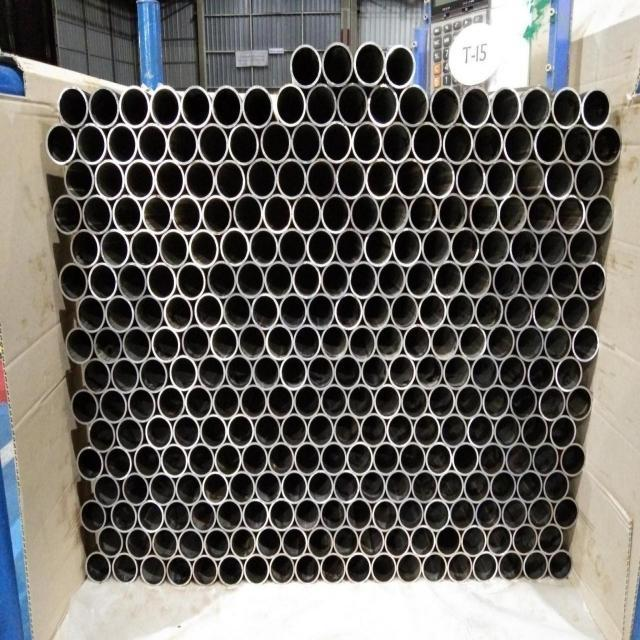pipe: (354, 40, 386, 87), (322, 41, 354, 88), (290, 43, 322, 88), (305, 82, 337, 127), (337, 81, 368, 127), (242, 85, 275, 128), (57, 85, 90, 128), (385, 44, 416, 89), (89, 84, 120, 129), (274, 83, 306, 126), (429, 85, 461, 128), (119, 85, 151, 128), (260, 121, 292, 164), (228, 122, 260, 165), (398, 83, 429, 127), (150, 85, 181, 129), (212, 85, 243, 129), (138, 122, 169, 166), (368, 82, 398, 127), (181, 85, 212, 128), (490, 86, 521, 129), (521, 86, 552, 129), (321, 120, 352, 163), (381, 120, 412, 163), (291, 120, 322, 163), (443, 122, 474, 165), (77, 122, 108, 165), (503, 122, 534, 165), (107, 122, 138, 165), (168, 122, 199, 165), (534, 122, 565, 165), (46, 122, 77, 165), (306, 157, 337, 200), (125, 158, 156, 201), (64, 158, 95, 201), (461, 85, 491, 129), (198, 122, 228, 166), (214, 159, 246, 200), (336, 158, 367, 200), (247, 158, 278, 200), (95, 159, 126, 201), (155, 159, 186, 201), (552, 86, 582, 129), (352, 120, 382, 163), (473, 122, 503, 165), (563, 123, 593, 166), (277, 157, 307, 200), (185, 159, 215, 202), (468, 194, 499, 235), (112, 194, 143, 235), (202, 194, 233, 235), (581, 87, 611, 129), (412, 122, 442, 164), (593, 124, 623, 166), (425, 157, 455, 199), (366, 158, 396, 200), (395, 158, 425, 200), (456, 159, 486, 201), (485, 159, 515, 201), (574, 159, 604, 201), (437, 193, 468, 233), (100, 228, 131, 268), (189, 228, 220, 268), (515, 159, 545, 200), (379, 193, 409, 234), (408, 193, 438, 234), (321, 193, 351, 234), (350, 193, 380, 234), (262, 193, 292, 234), (526, 194, 556, 235), (82, 194, 112, 235), (142, 194, 172, 235), (53, 194, 83, 235), (172, 194, 202, 235), (545, 159, 574, 201), (233, 194, 263, 234), (292, 194, 322, 234), (450, 227, 480, 267), (364, 227, 394, 267), (422, 227, 452, 267), (335, 227, 365, 267), (392, 227, 422, 267), (278, 227, 308, 267), (480, 228, 510, 268), (509, 228, 539, 268), (70, 228, 100, 268), (538, 228, 568, 268), (130, 228, 160, 268), (159, 229, 189, 269), (59, 261, 89, 301), (498, 194, 527, 235), (557, 194, 586, 235), (220, 228, 250, 267), (462, 260, 492, 299), (207, 260, 237, 299), (492, 261, 522, 300), (177, 262, 207, 301), (88, 262, 118, 301), (117, 262, 147, 301), (147, 262, 177, 301), (105, 294, 135, 333), (307, 227, 336, 267), (249, 227, 278, 267), (568, 228, 597, 268), (194, 293, 224, 331), (164, 294, 194, 332), (135, 295, 165, 333), (181, 324, 211, 362), (377, 260, 406, 299), (349, 260, 378, 299), (406, 260, 435, 299), (434, 260, 463, 299), (236, 260, 265, 299), (321, 260, 350, 299), (265, 260, 294, 299), (521, 261, 550, 300), (550, 261, 579, 300), (77, 294, 106, 333), (586, 194, 614, 234), (504, 294, 534, 331), (152, 326, 182, 363), (122, 326, 152, 363), (169, 355, 199, 392), (139, 356, 169, 393), (293, 261, 322, 299), (446, 292, 475, 330), (475, 292, 504, 330), (223, 292, 252, 330), (279, 293, 308, 331), (251, 293, 280, 331), (533, 294, 562, 332), (516, 324, 545, 362), (94, 326, 123, 364), (578, 261, 606, 300), (66, 326, 94, 365), (127, 387, 157, 423), (487, 324, 516, 361), (210, 324, 239, 361), (293, 324, 322, 361), (498, 354, 527, 391), (527, 355, 556, 392), (83, 357, 112, 394), (111, 357, 140, 394), (99, 387, 128, 424), (71, 388, 100, 425), (307, 292, 335, 330), (418, 292, 446, 330), (335, 293, 363, 331), (363, 293, 391, 331), (391, 293, 419, 331), (561, 293, 589, 331), (431, 323, 459, 361), (459, 323, 487, 361), (544, 324, 572, 362), (157, 385, 186, 421), (376, 323, 404, 360), (403, 323, 431, 360), (321, 324, 349, 361), (238, 324, 266, 361), (266, 324, 294, 361), (348, 324, 376, 361), (572, 325, 600, 362), (388, 353, 416, 390), (415, 353, 443, 390), (307, 354, 335, 391), (443, 354, 471, 391), (280, 354, 308, 391), (225, 354, 253, 391), (253, 354, 281, 391), (471, 354, 499, 391), (198, 354, 226, 391), (555, 355, 583, 392), (428, 383, 456, 420), (240, 383, 268, 420), (213, 383, 241, 420), (185, 384, 213, 421), (510, 384, 538, 421), (116, 417, 145, 452), (413, 412, 441, 448), (440, 412, 468, 448), (254, 412, 282, 448), (227, 413, 255, 449), (521, 413, 549, 449), (241, 441, 269, 477), (334, 354, 362, 390), (361, 354, 389, 390), (320, 384, 348, 420), (374, 384, 402, 420), (267, 384, 295, 420), (293, 384, 321, 420), (455, 384, 483, 420), (538, 385, 566, 421), (565, 385, 593, 421), (401, 383, 428, 420), (104, 446, 133, 480), (467, 413, 495, 448), (200, 414, 228, 449), (173, 414, 201, 449), (549, 415, 577, 450), (146, 415, 174, 450), (88, 418, 116, 453), (188, 443, 216, 478), (133, 443, 161, 478), (161, 443, 189, 478), (77, 446, 105, 481), (148, 471, 176, 506), (122, 471, 150, 506), (175, 471, 203, 506), (307, 412, 334, 448), (334, 412, 361, 448), (360, 412, 387, 448), (387, 412, 414, 448), (348, 383, 375, 419), (483, 384, 510, 420), (93, 473, 122, 506), (79, 499, 108, 532), (281, 413, 308, 448), (494, 413, 521, 448), (294, 441, 321, 476), (321, 441, 348, 476), (347, 441, 374, 476), (373, 441, 400, 476), (399, 441, 426, 476), (268, 441, 295, 476), (426, 442, 453, 477), (452, 442, 479, 477), (479, 442, 506, 477), (506, 442, 533, 477), (215, 442, 242, 477), (360, 469, 387, 504), (385, 469, 412, 504), (412, 469, 439, 504), (307, 469, 334, 504), (333, 469, 360, 504), (438, 469, 465, 504), (281, 469, 308, 504), (255, 470, 282, 505), (229, 470, 256, 505), (320, 497, 347, 532), (346, 497, 373, 532), (397, 497, 424, 532), (294, 497, 321, 532), (269, 497, 296, 532), (372, 497, 399, 532), (242, 497, 269, 532), (217, 498, 244, 533), (164, 499, 191, 534), (152, 526, 179, 561), (532, 443, 560, 476), (542, 470, 570, 503), (110, 500, 138, 533), (125, 527, 153, 560), (464, 470, 491, 504), (490, 470, 517, 504), (424, 498, 451, 532), (230, 526, 257, 560), (203, 471, 229, 506), (191, 499, 217, 534), (178, 527, 204, 562), (560, 443, 587, 476), (517, 470, 544, 503), (501, 497, 528, 530), (138, 500, 165, 533), (333, 525, 360, 558), (307, 526, 334, 559), (256, 526, 283, 559), (112, 552, 139, 585), (140, 554, 167, 587), (450, 497, 476, 531), (204, 527, 230, 561), (527, 497, 553, 530), (553, 497, 579, 530), (475, 497, 501, 530), (538, 523, 564, 556), (512, 523, 538, 556), (487, 524, 513, 557), (461, 524, 487, 557), (435, 524, 461, 557), (410, 525, 436, 558), (359, 525, 385, 558), (282, 526, 308, 559), (346, 552, 372, 585), (371, 552, 397, 585), (269, 552, 295, 585), (295, 552, 321, 585), (320, 552, 346, 585), (244, 553, 270, 586), (218, 553, 244, 586), (166, 554, 192, 587), (97, 526, 124, 557), (498, 550, 524, 582), (385, 525, 410, 558), (548, 549, 573, 582), (524, 549, 549, 582), (448, 551, 473, 584), (86, 551, 111, 584), (422, 551, 447, 584), (397, 552, 422, 585), (193, 554, 218, 587), (474, 552, 498, 582)
